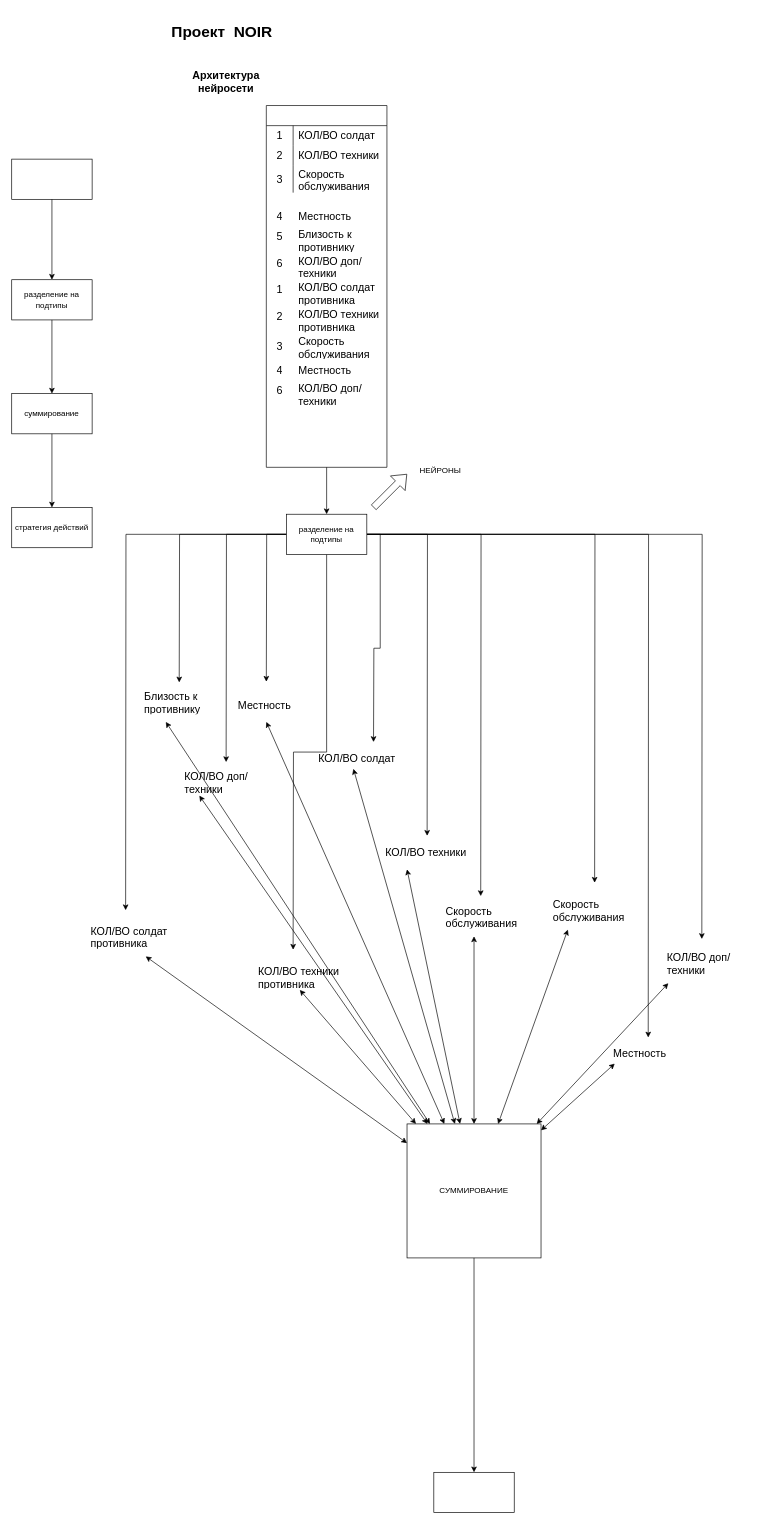
Image size: 767x1524. Some labels were removed from this diagram. Here are the shapes that lost their labels. From the top down, the box of each, then its label:
(11, 158, 92, 199): Входные входные данные
(266, 105, 387, 467): ВХОДНЫЕ ДАННЫЕ
(433, 1472, 514, 1513): СТРАТЕГИЯ
